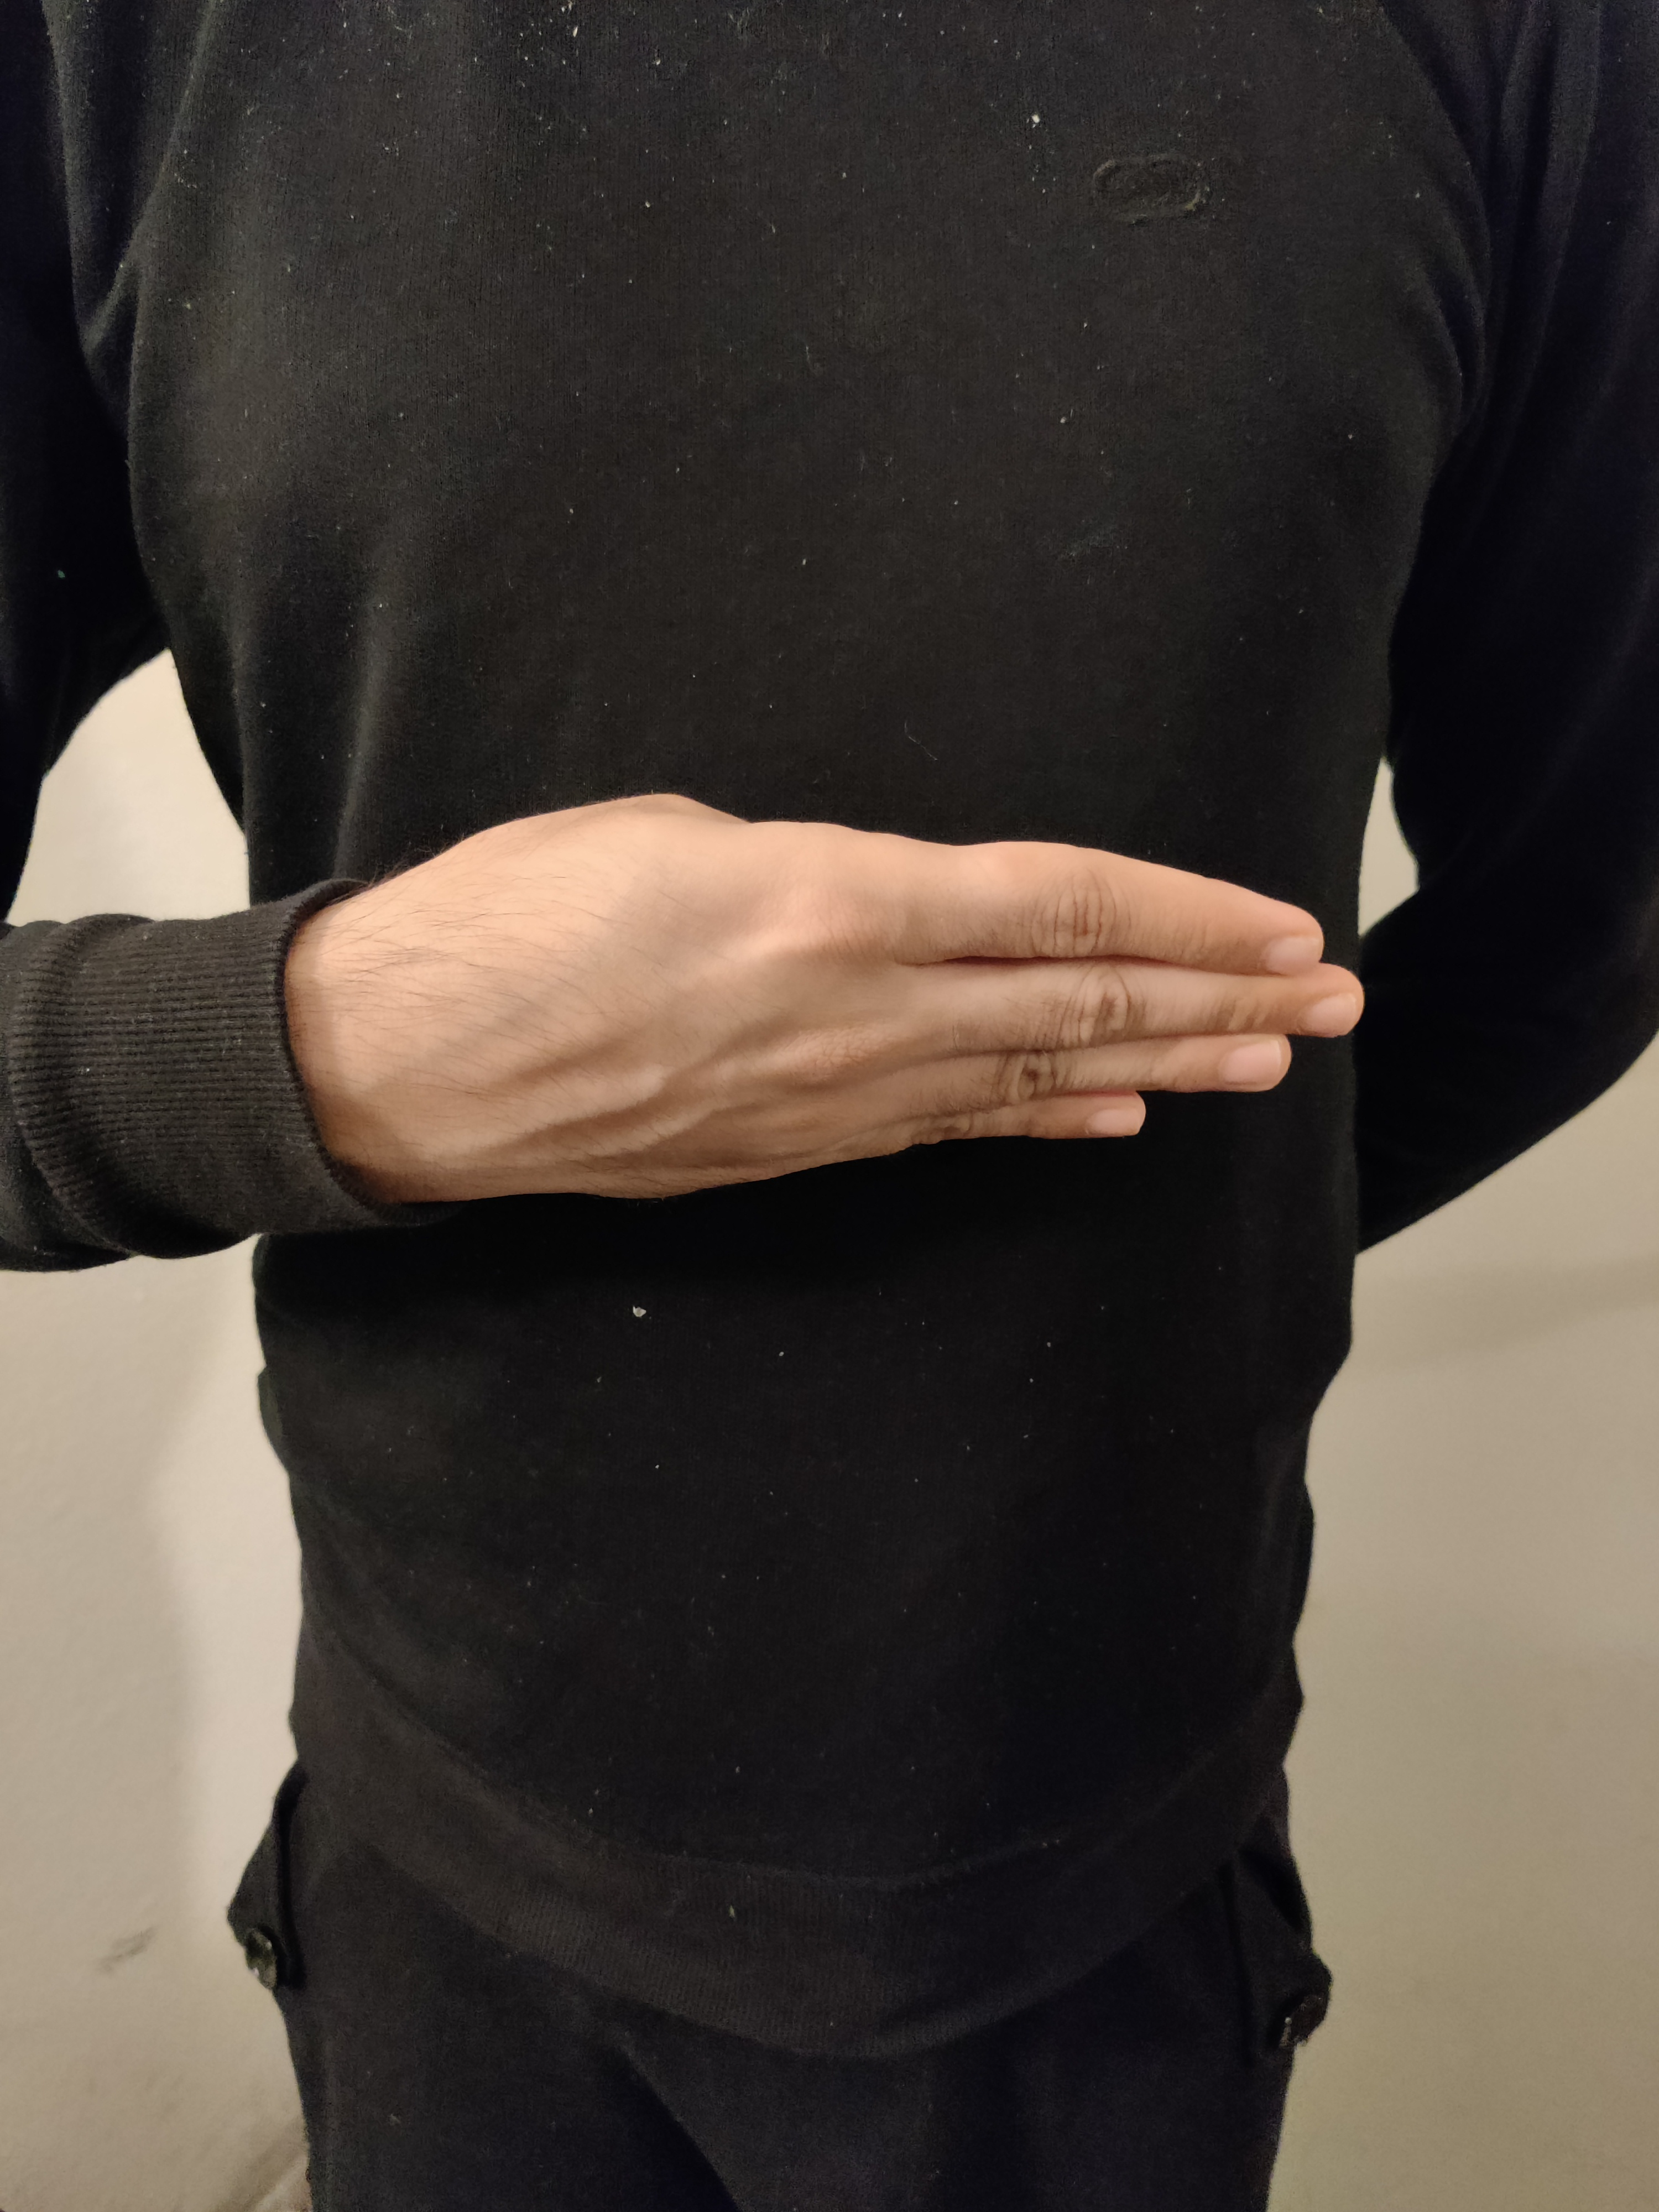left: (63, 563, 1412, 1346)
